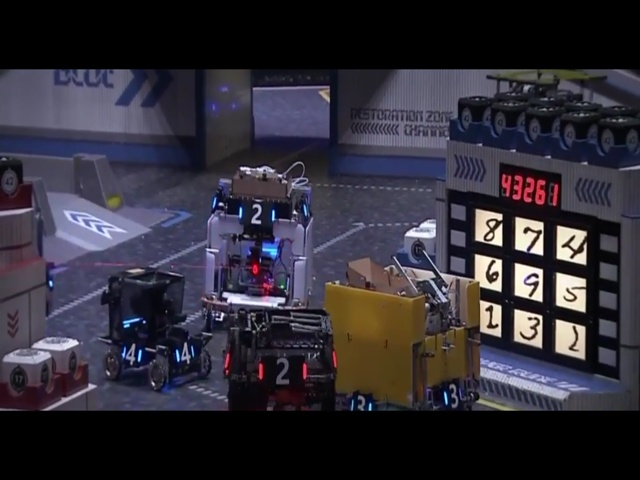bluePlate: (238, 198, 277, 227), (440, 379, 464, 409), (120, 339, 143, 368), (172, 338, 195, 367), (349, 389, 375, 412)
redPlate: (257, 354, 306, 387)
